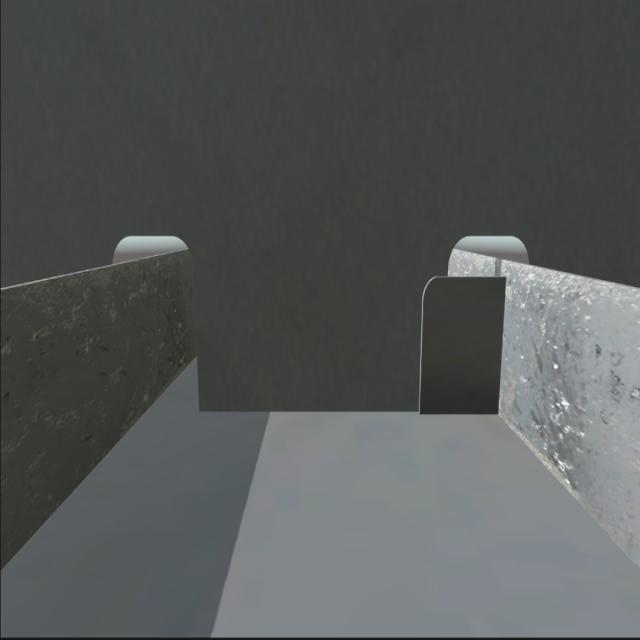fillet_yong_jeop_jang: (197, 403, 507, 421)
longi_yong_jeop_jang: (486, 269, 512, 419)
plate_CP05: (418, 272, 502, 415)
